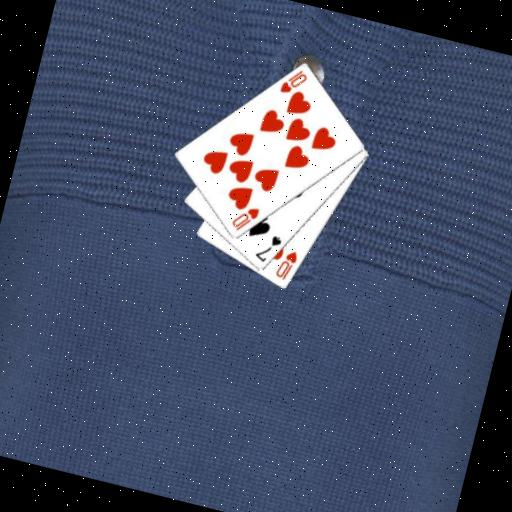10H: (277, 63, 311, 100), (228, 200, 262, 236), (272, 245, 301, 284)
7S: (251, 229, 285, 268)
